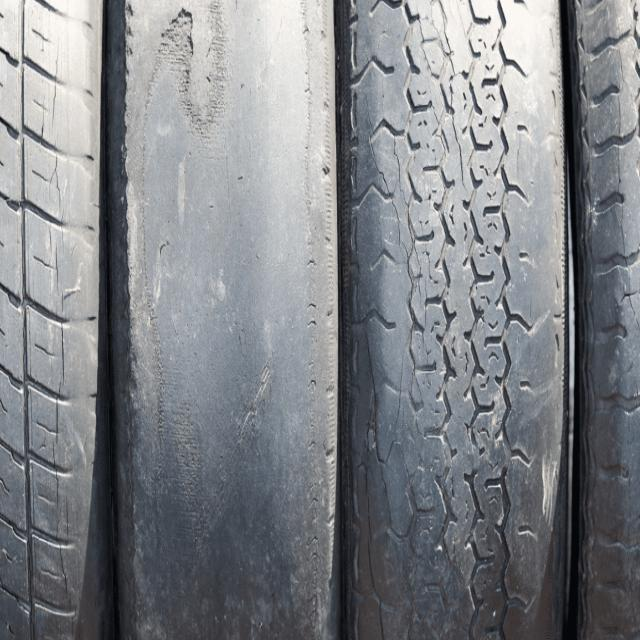Flat spots: (114, 0, 328, 628), (505, 2, 639, 639)
Non-defective: (0, 0, 65, 640)
